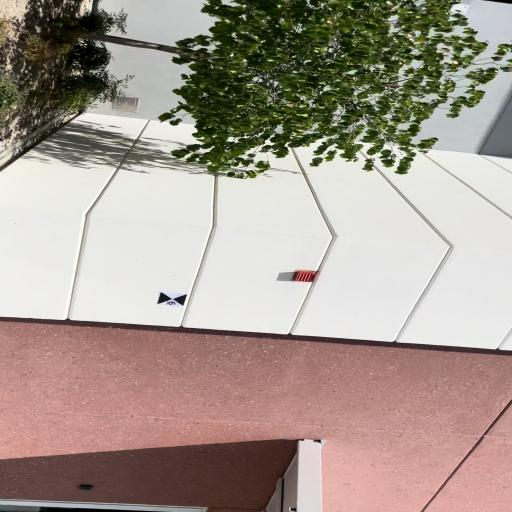target6: (157, 292, 188, 307)
